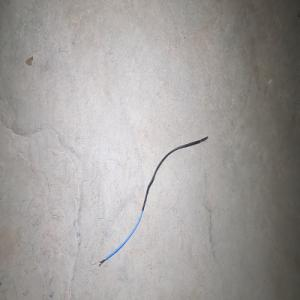Wire: (97, 135, 208, 266)
